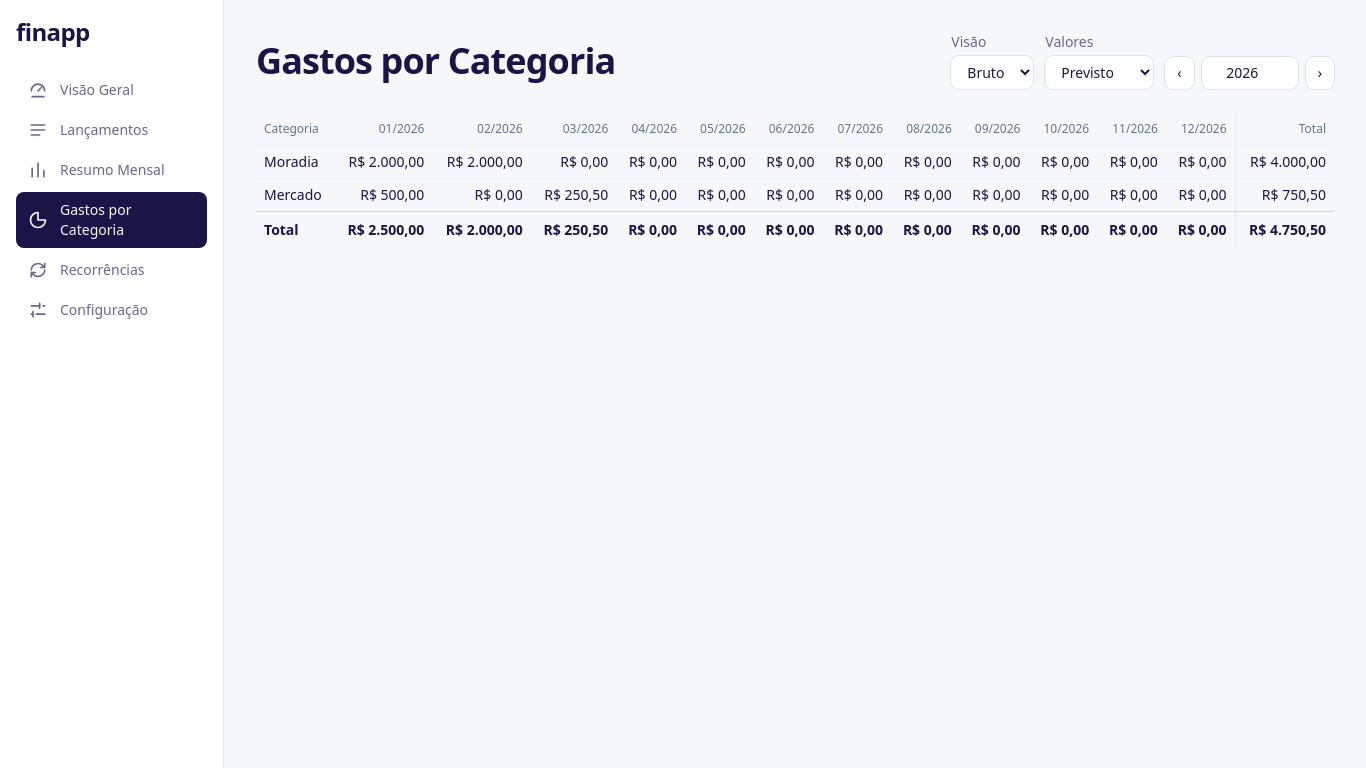
Scenario: Options › keeps the table on screen while the next year loads
Expected: the heading "Gastos por Categoria" is shown, [256, 40, 615, 80]
What coordinates should you click on to do the following:
click the button named "Próximo ano"
I would click on:
 (1320, 73)
Its box is [1306, 57, 1334, 89].
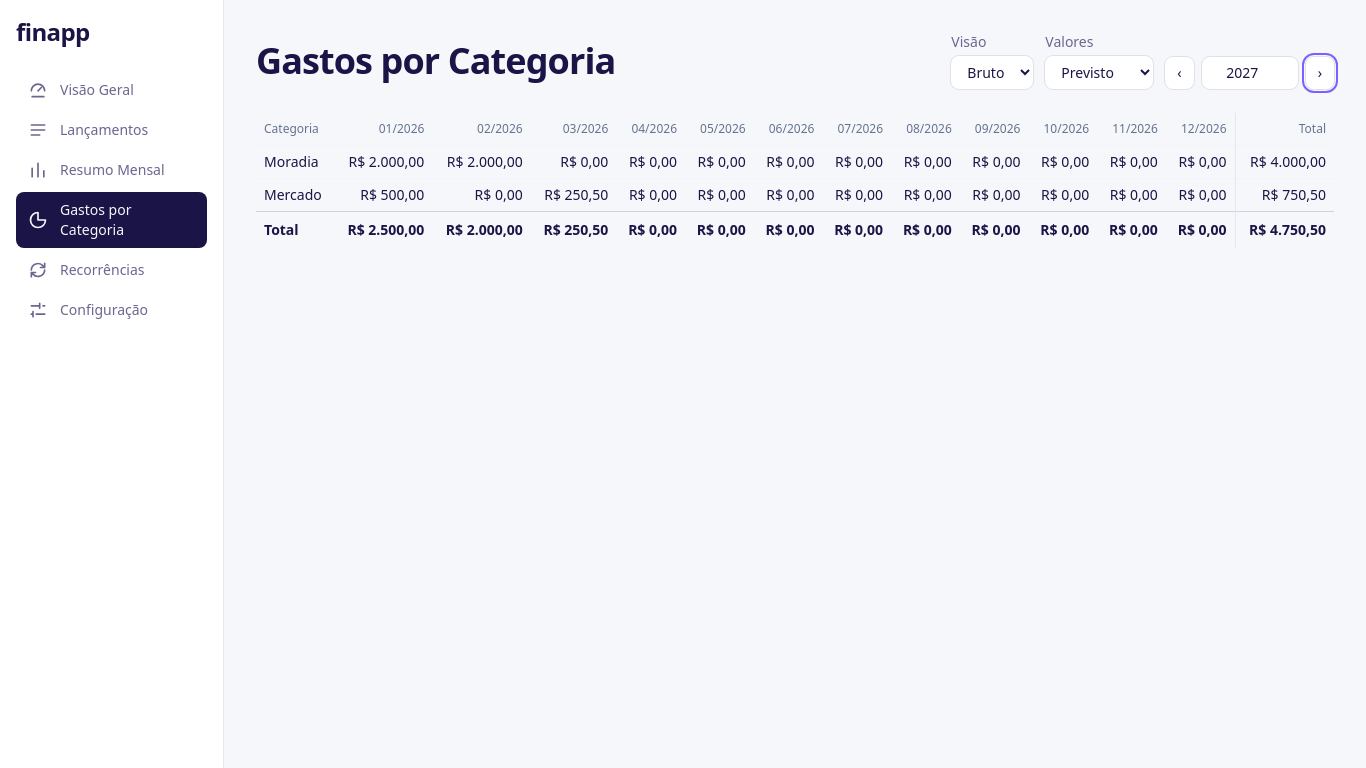
Expected: the column heading "01/2026" is shown, [334, 113, 432, 146]
Result: the number field named "Ano" holds "2027" at [1202, 57, 1298, 89]
